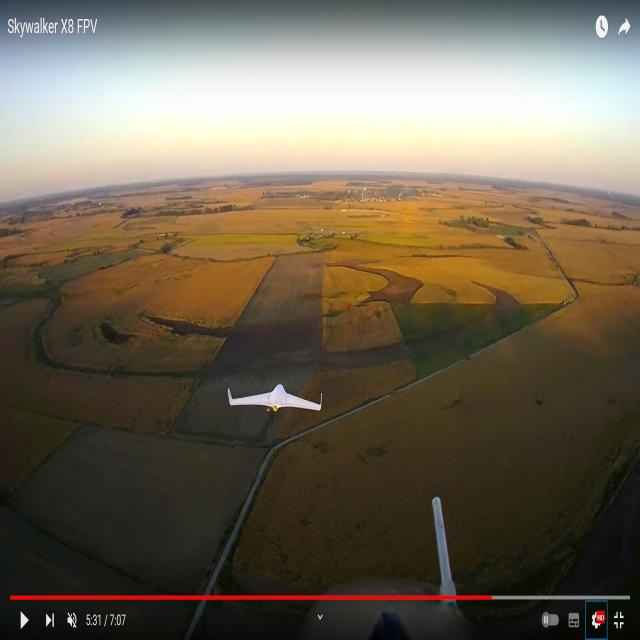iha: (259, 384, 292, 419)
